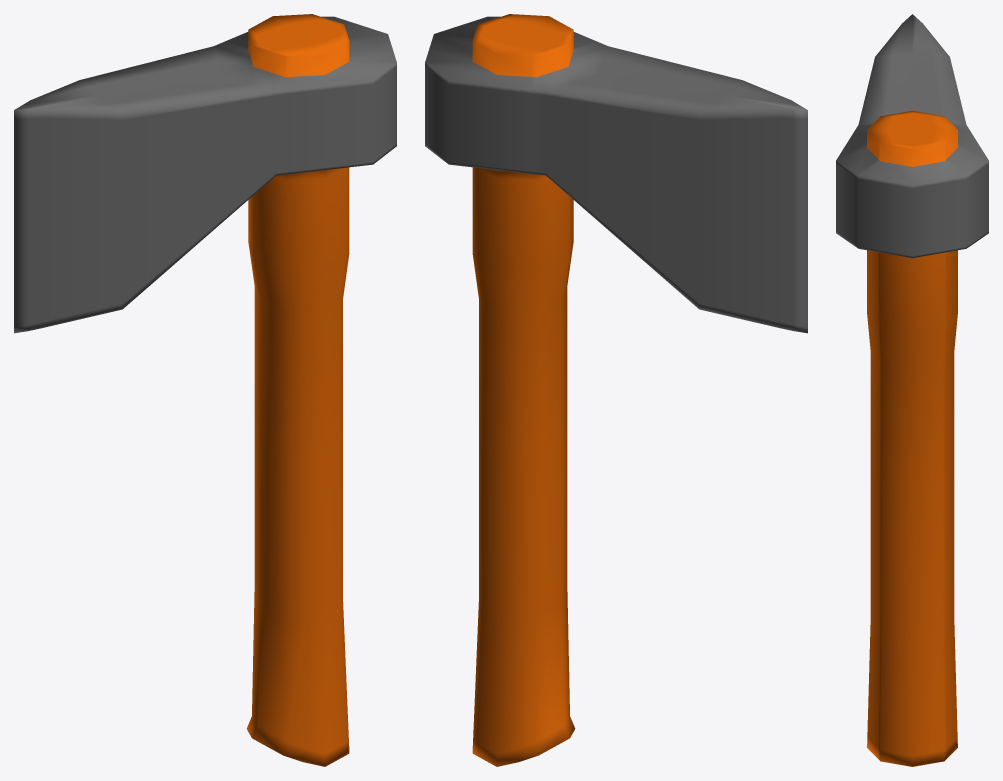
The model's file is Axe.fbx.
3 renders of one model, left to right at view 1: azimuth 30°, elevation 25°; view 2: azimuth 150°, elevation 25°; view 3: azimuth 270°, elevation 25°, orthographic. The views are drawn at different scales.
Parts seen in each view (by area): view 1: Axe; view 2: Axe; view 3: Axe.
Part boxes in pixels (x1,y1,x2,y2): Axe: (14, 14, 396, 766); Axe: (425, 14, 807, 766); Axe: (836, 14, 988, 766).
Size of the model in its own units: 10.09 by 24.72 by 45.
